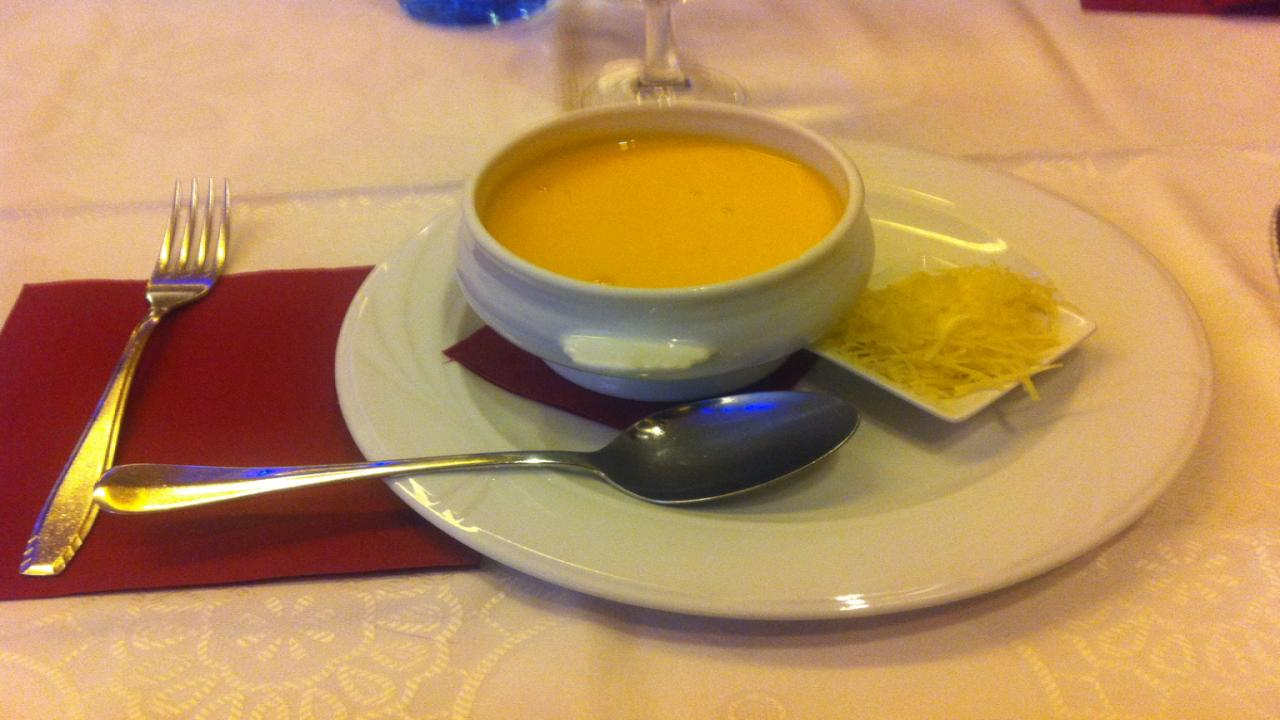fork: (19, 176, 235, 584)
